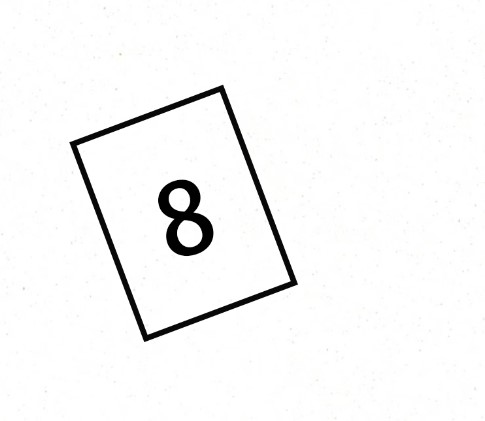eight: (129, 151, 237, 275)
